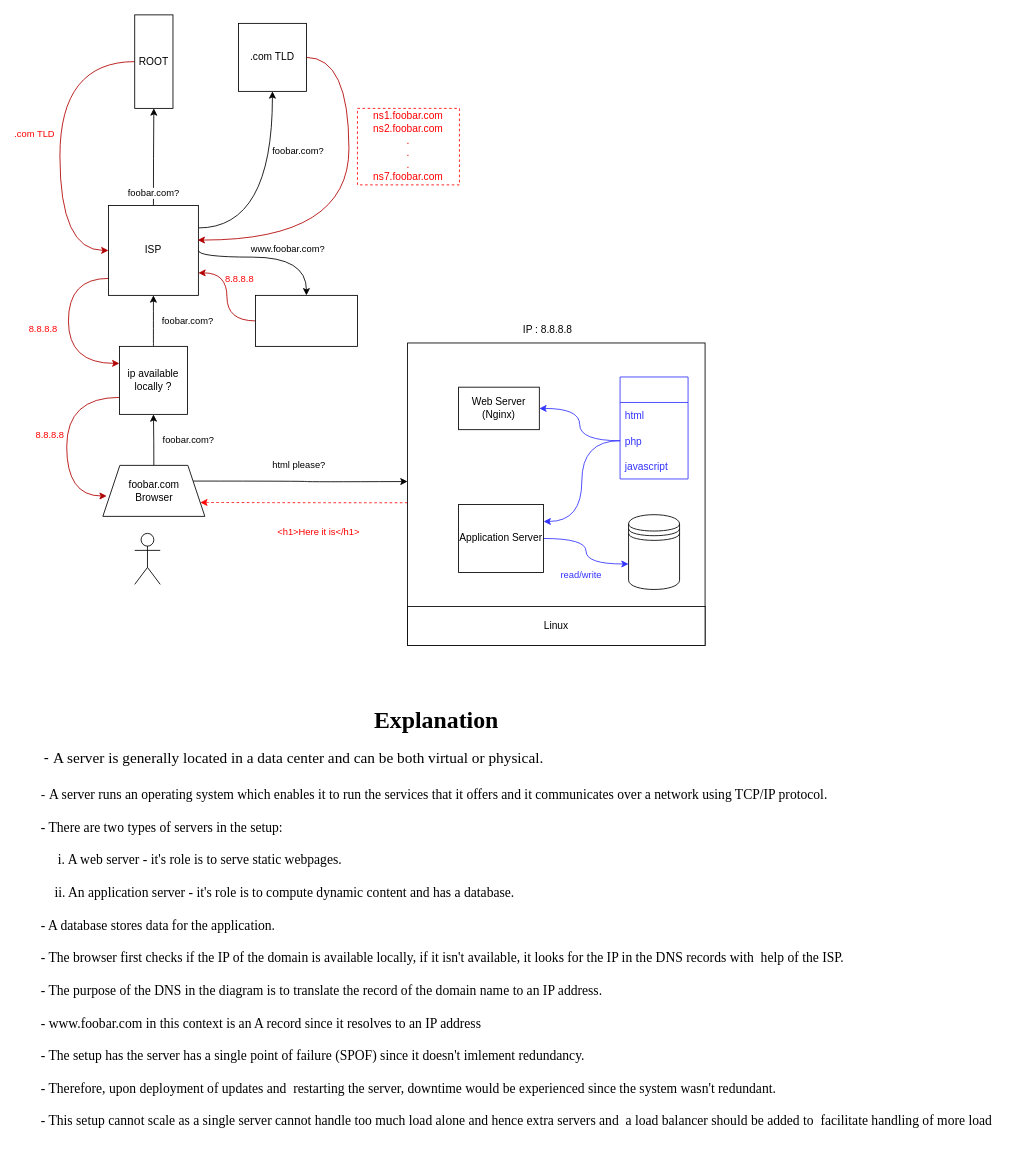
Image size: 1023x1175. Some labels were removed from this diagram. The box of each missing label's shape, as (x1, y1, x2, y2) in pixels:
Codebase: (619, 376, 688, 479)
Database MYSQL: (628, 514, 680, 589)
ns2.foobar.com: (255, 295, 357, 346)
user: (134, 533, 160, 584)
